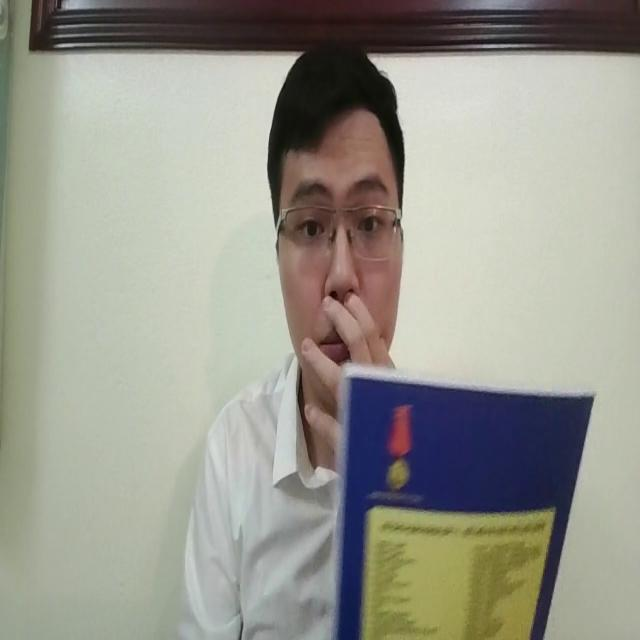book: (326, 352, 595, 640)
student: (171, 50, 422, 640)
